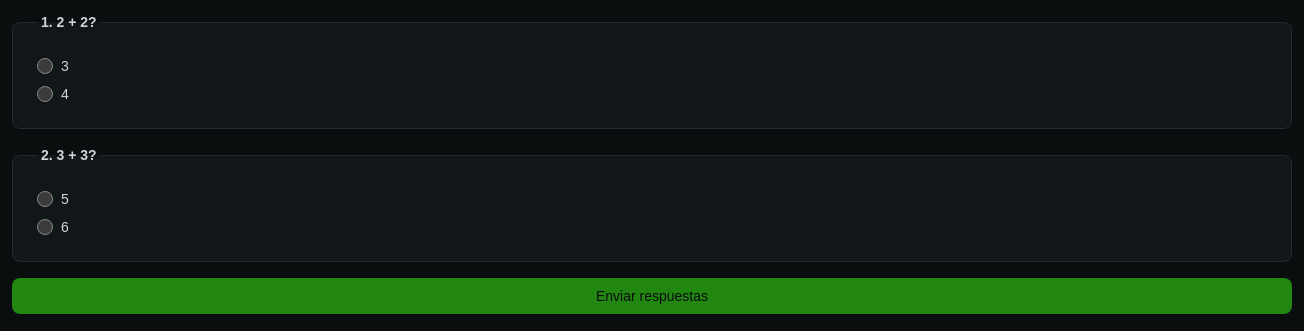
Test: QuizRunner › keeps submit disabled until every question has exactly one selection
Expected: the button "Enviar respuestas" is disabled, [12,278,1292,314]
Click the radio button labelled "4" at [45, 94], box [37,86,53,102]
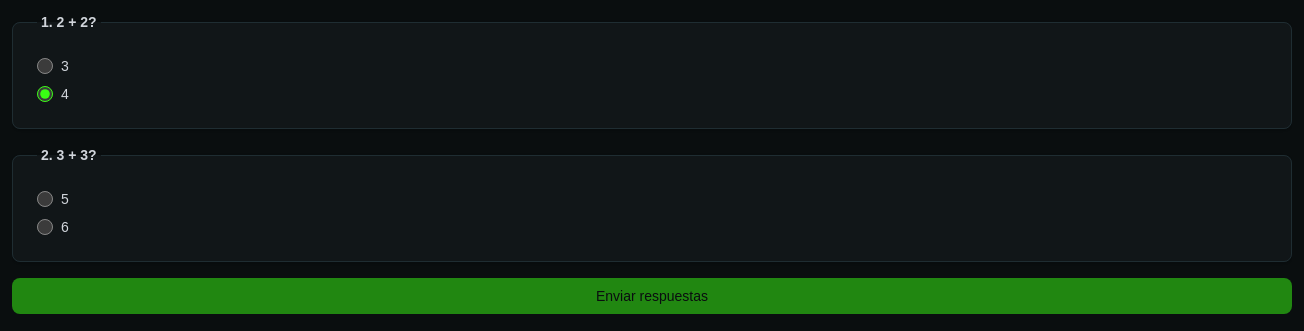
Expected: the button "Enviar respuestas" is disabled, [12,278,1292,314]
Click the radio button labelled "6" at [45, 227], box [37,219,53,235]
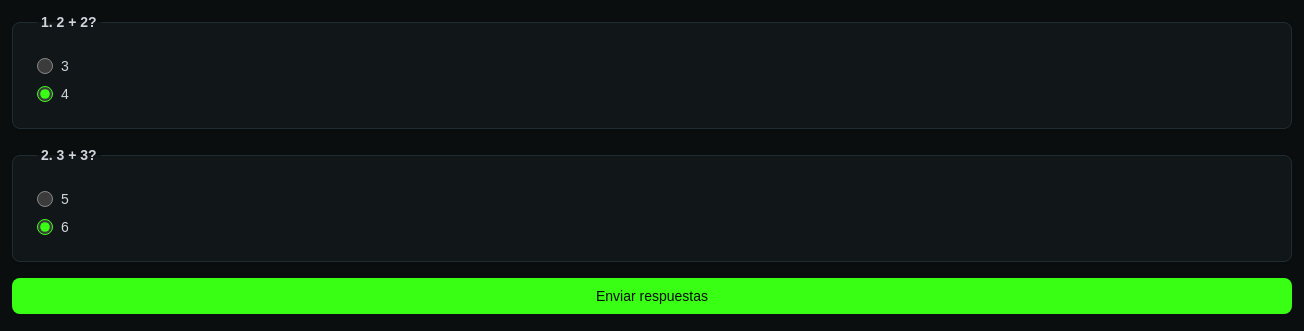
Now the button "Enviar respuestas" is enabled, box [12,278,1292,314]
